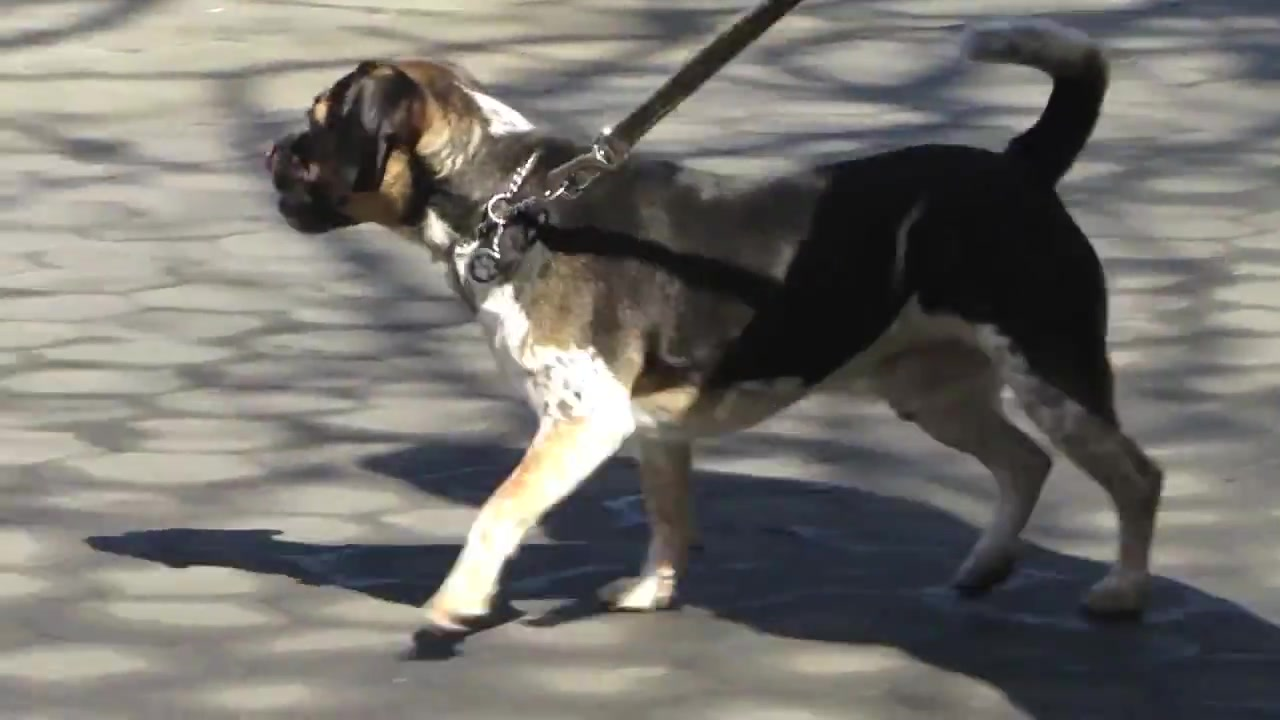dog: (264, 22, 1165, 654)
